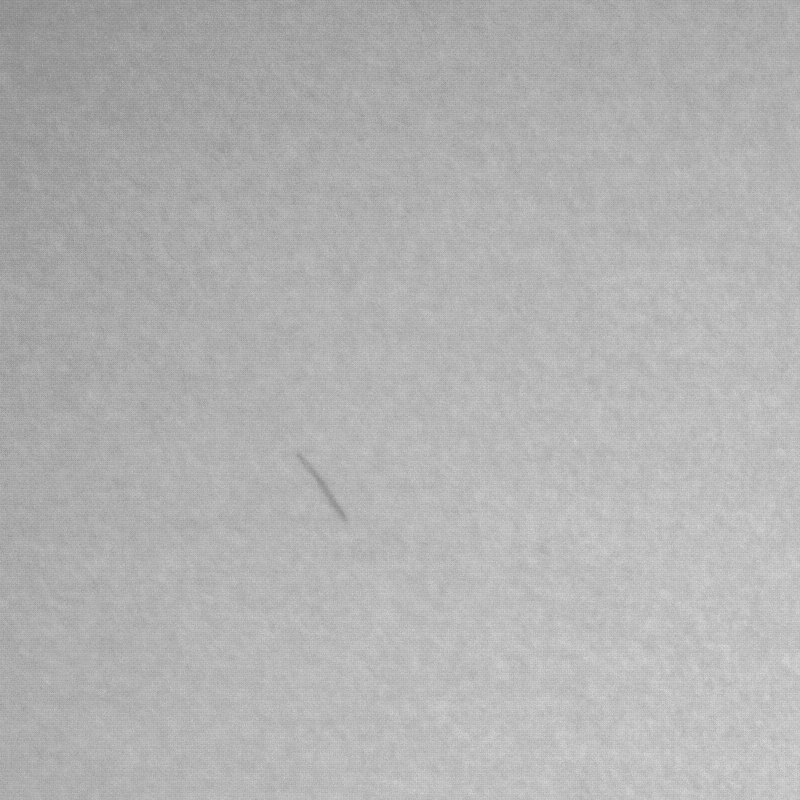defect: (298, 454, 355, 535)
